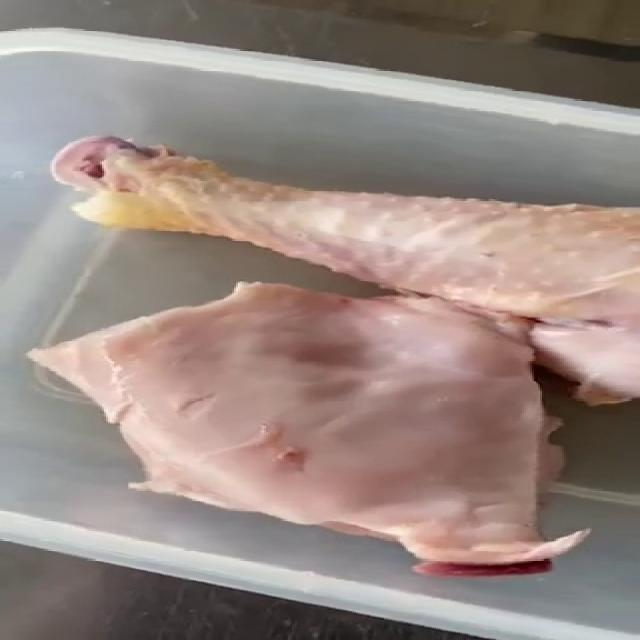chicken: (25, 278, 591, 572)
